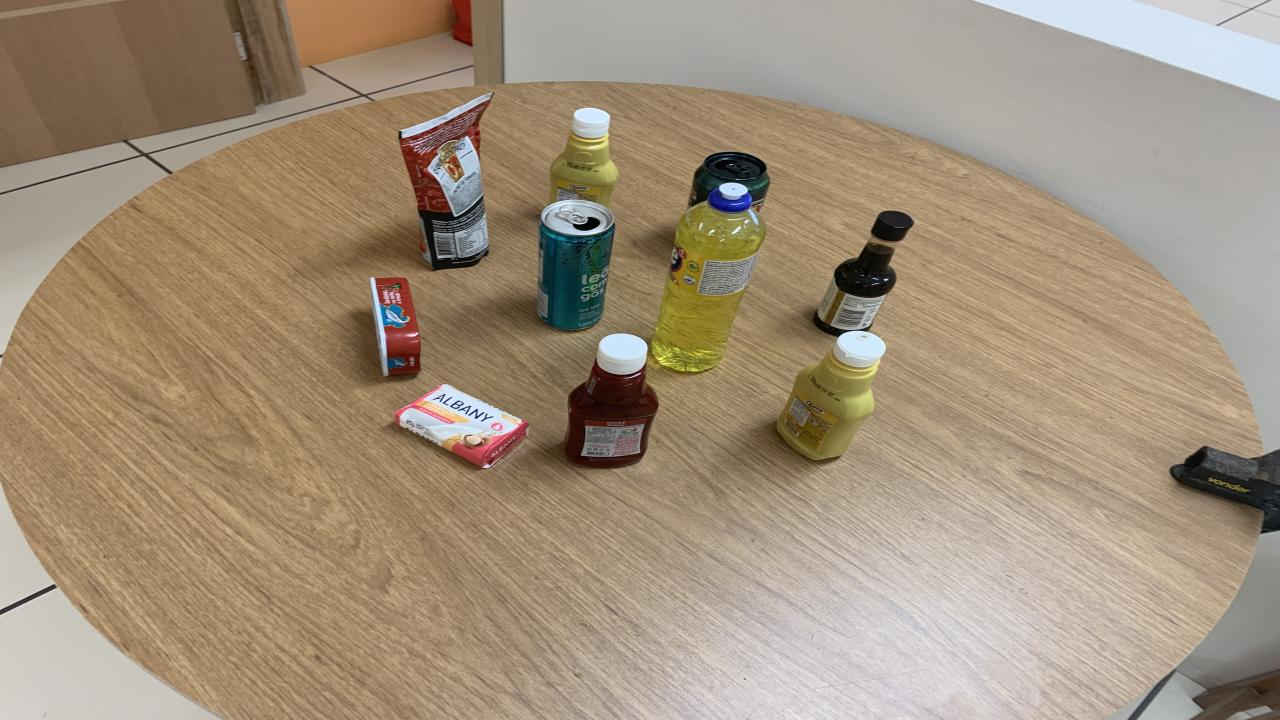Detergent-Cleanup_Items: (652, 182, 765, 371)
English_Sauce-Pantry_Items: (815, 212, 915, 336)
Guarana_Can-Drinks: (688, 152, 770, 212)
Ketchup-Pantry_Items: (565, 334, 658, 467)
Mustard-Pantry_Items: (778, 330, 885, 459), (550, 107, 618, 206)
Soap-Cleanup_Items: (395, 384, 528, 467)
Tea-Drinks: (538, 199, 615, 330)
Tomato_Sauce-Pantry_Items: (400, 94, 492, 270)
Tuna_Can-Pantry_Items: (370, 278, 420, 375)
